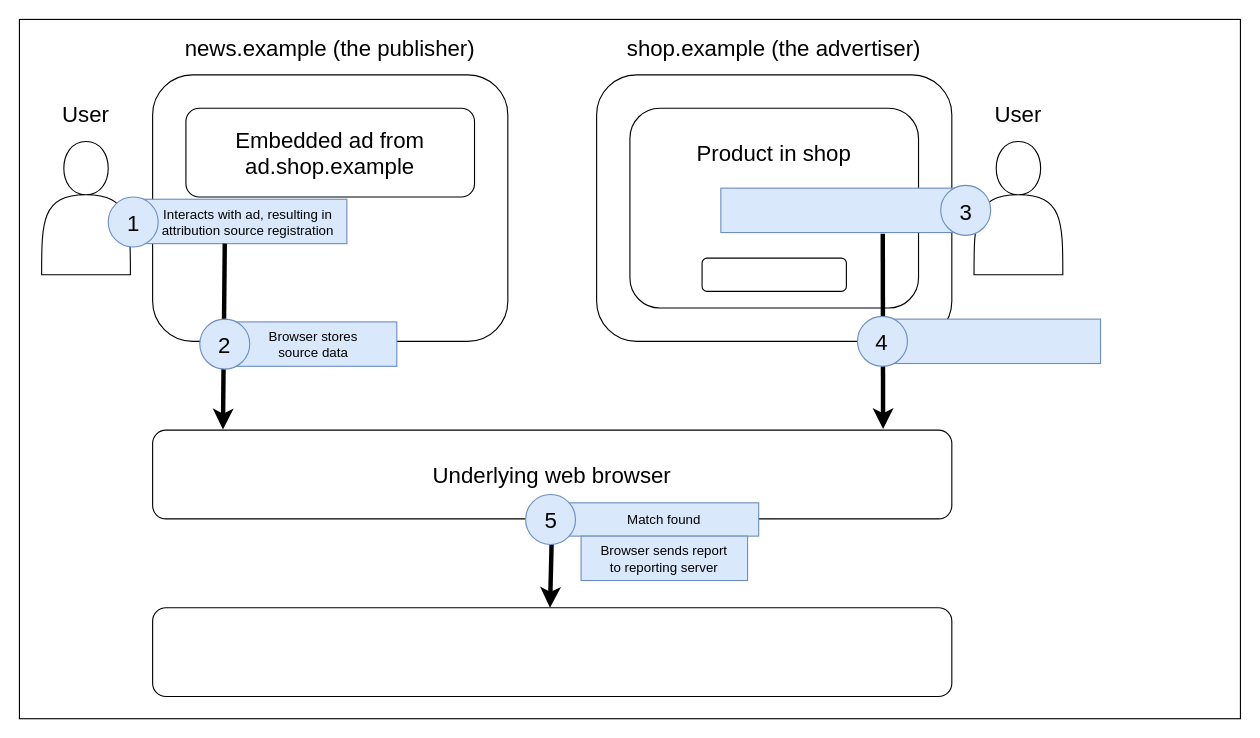
The diagram is 1260 pixels wide and 738 high, and some of its shapes have lost their labels. Each missing label, with the centre of its shape:
Add to cart: point (773, 274)
Browser tries to match trigger with stored source data: point (995, 341)
Interacts with trigger, resulting in attribution trigger registration: point (839, 210)
Reporting server: point (552, 652)
